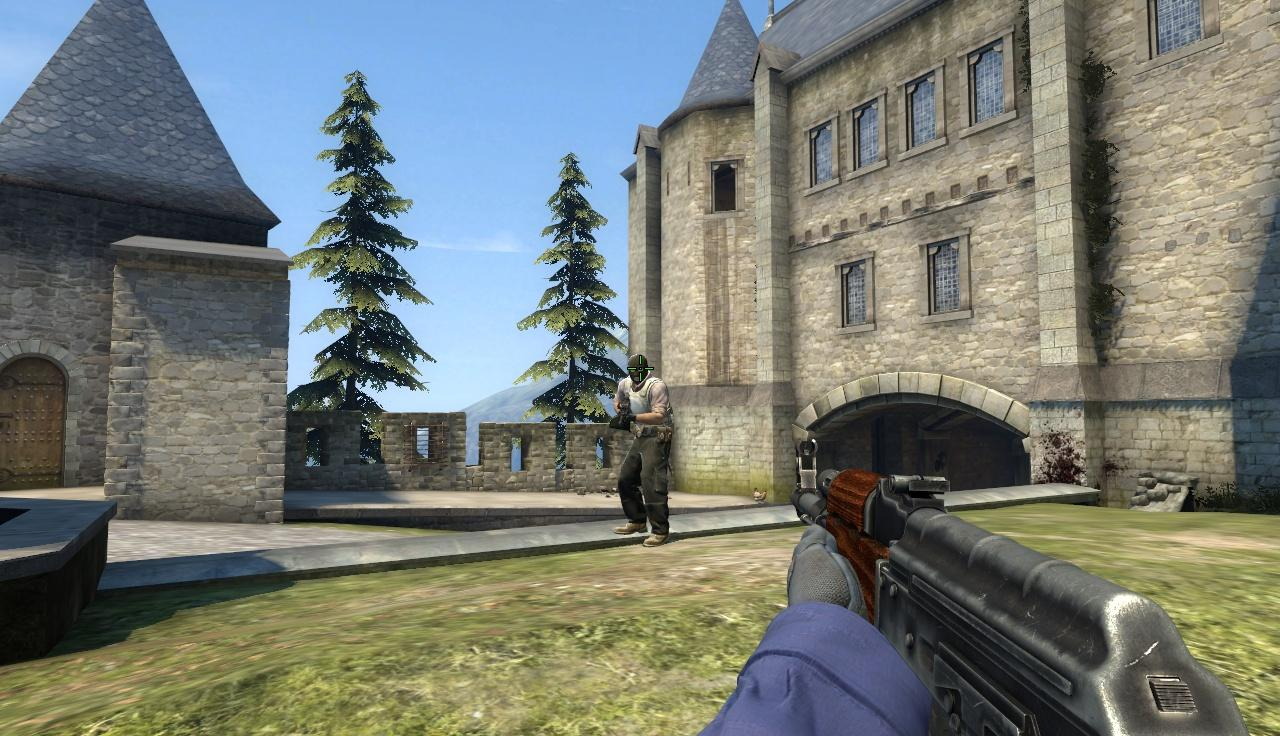rifle: (784, 436, 1280, 736)
tt: (614, 354, 670, 548)
tthead: (627, 354, 649, 384)
